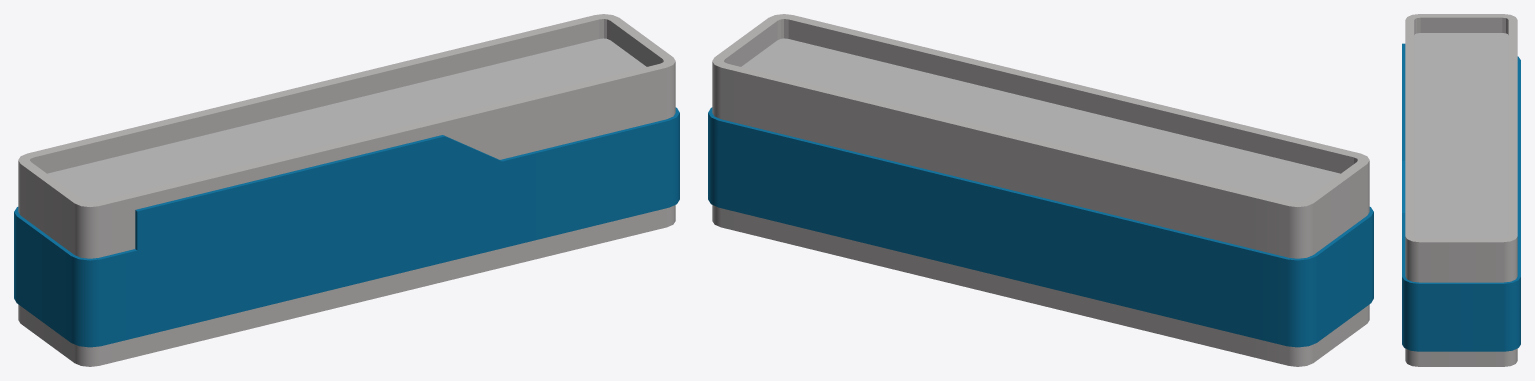
The model's file is LabPlantBoxA.fbx.
3 views of the same model, side by side, from view 1: azimuth 30°, elevation 25°; view 2: azimuth 150°, elevation 25°; view 3: azimuth 270°, elevation 25° (orthographic). The views are drawn at different scales.
Parts seen in each view (by area): view 1: LabPlantBoxA1; view 2: LabPlantBoxA1; view 3: LabPlantBoxA1.
Part boxes in pixels (box(x1,y1,x2,y2)): LabPlantBoxA1: box(14, 14, 679, 366); LabPlantBoxA1: box(708, 14, 1373, 366); LabPlantBoxA1: box(1402, 14, 1520, 366).
Size of the model in its own units: 294 by 74.04 by 63.93.
